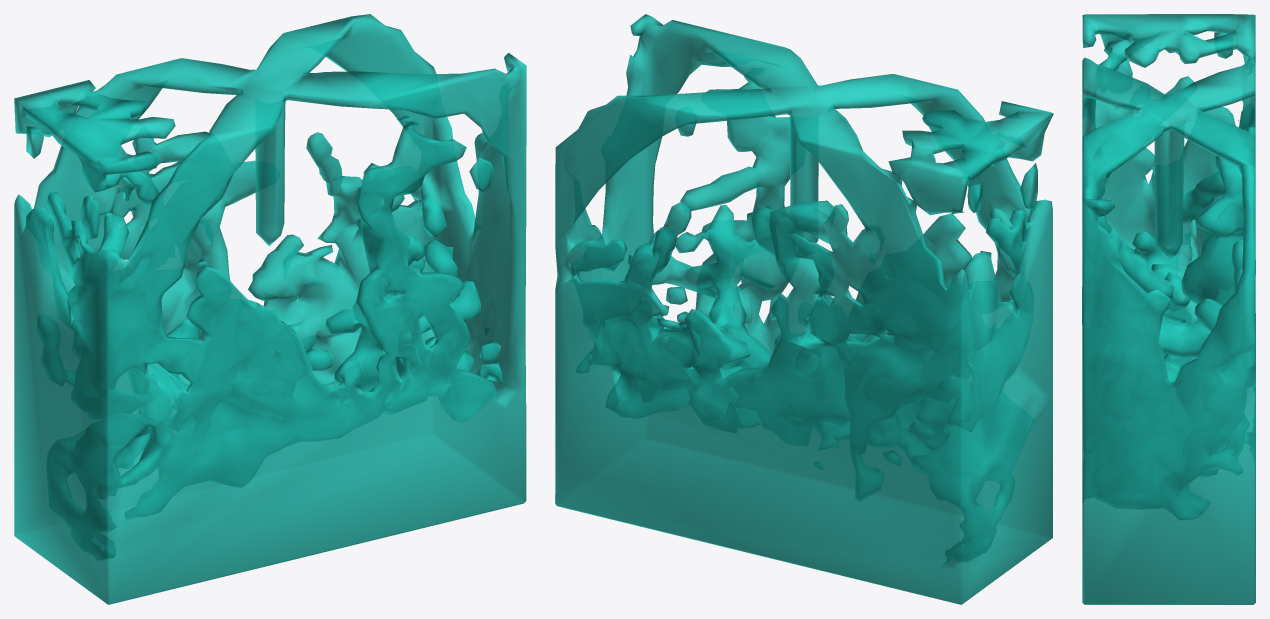
3 views of the same model, side by side, from view 1: azimuth 30°, elevation 25°; view 2: azimuth 150°, elevation 25°; view 3: azimuth 270°, elevation 25° (orthographic). The views are drawn at different scales.
Parts seen in each view (by area): view 1: Liquid_Domain; view 2: Liquid_Domain; view 3: Liquid_Domain.
Part boxes in pixels (left/top/right/bottom): Liquid_Domain: left=14, top=14, right=526, bottom=604; Liquid_Domain: left=555, top=14, right=1053, bottom=604; Liquid_Domain: left=1082, top=14, right=1255, bottom=604.
Size of the model in its own units: 884 by 884 by 345.
